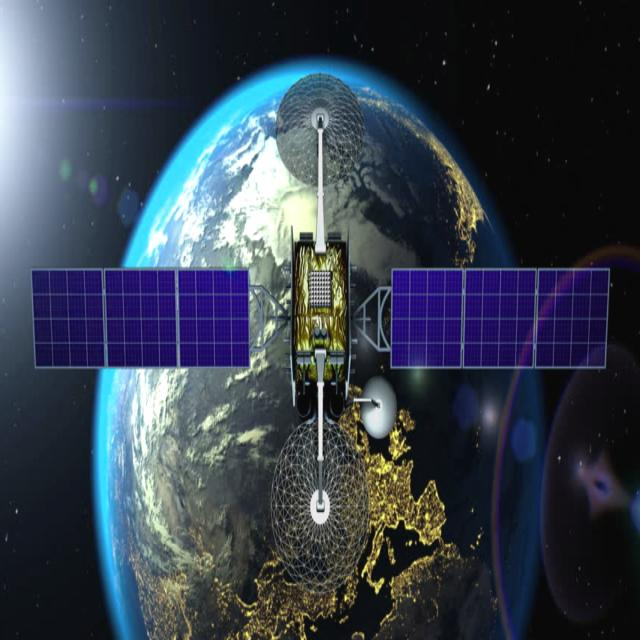satellite: (7, 90, 640, 553)
